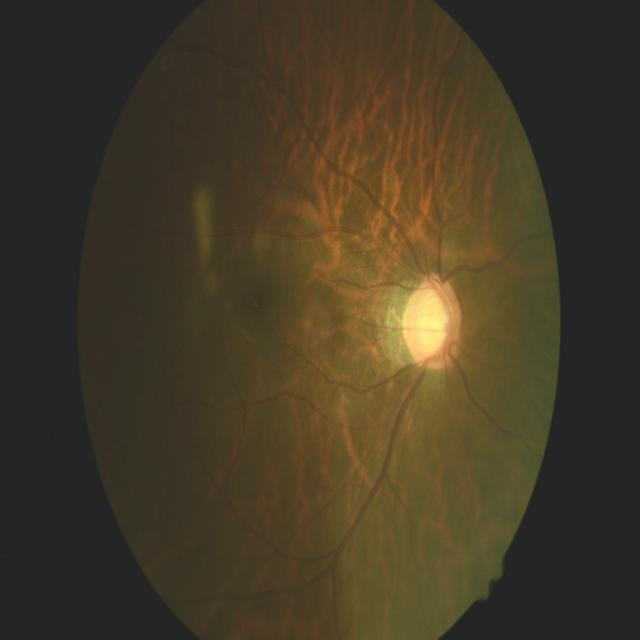cup: (410, 286, 452, 360)
disk: (402, 272, 464, 373)
